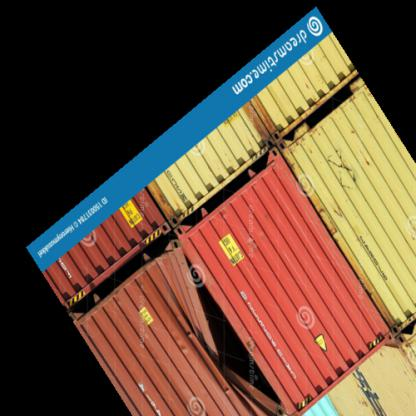Damage: (164, 251, 288, 409)
